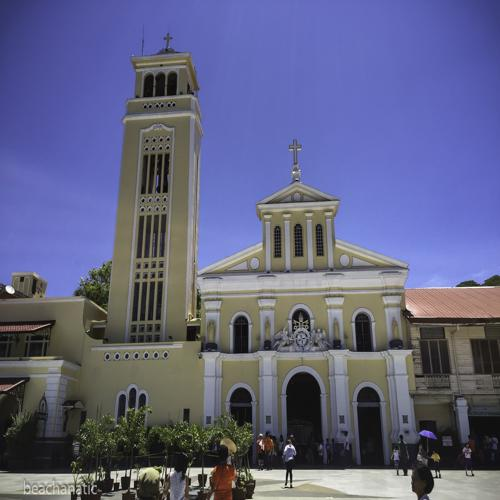Manaoag Church: (97, 27, 412, 475)
